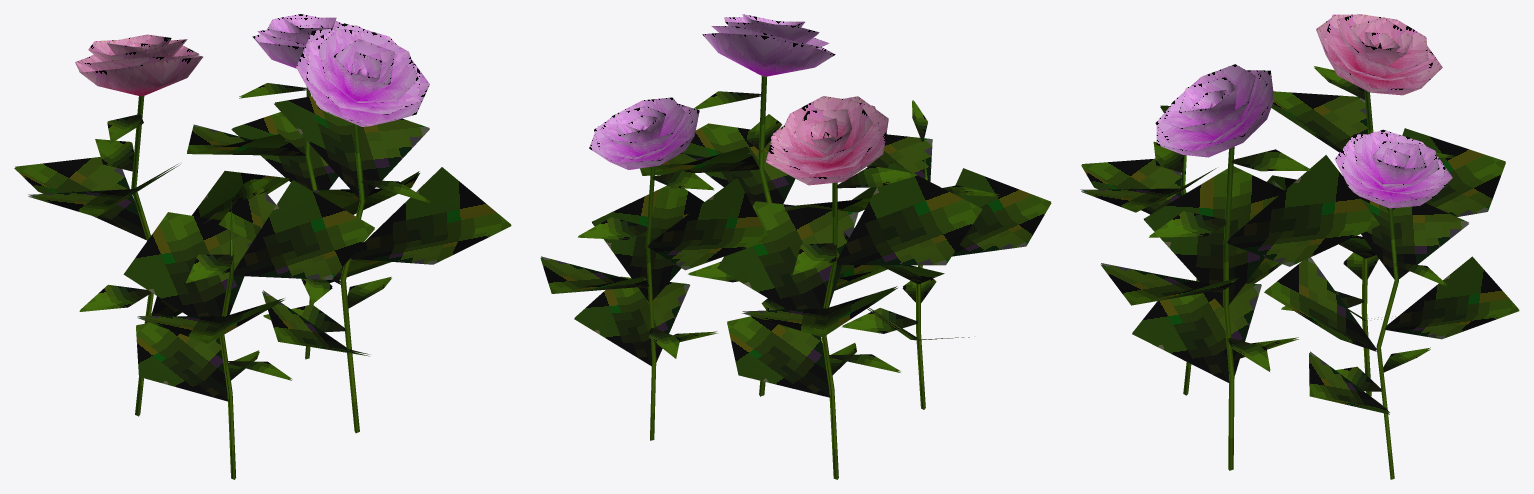
The model's file is plants_gardenflower02.gltf.
The picture shows the model from 3 angles, left to right: view 1: azimuth 30°, elevation 25°; view 2: azimuth 150°, elevation 25°; view 3: azimuth 270°, elevation 25°; orthographic projection. The views are drawn at different scales.
Parts seen in each view (by area): view 1: um_plants_gardenflower02_model_plants_gardenflower02_modelSh; view 2: um_plants_gardenflower02_model_plants_gardenflower02_modelSh; view 3: um_plants_gardenflower02_model_plants_gardenflower02_modelSh.
Boxes of the visible parts, box(x1,y1,x2,y2) form: um_plants_gardenflower02_model_plants_gardenflower02_modelSh: box(14, 14, 511, 479); um_plants_gardenflower02_model_plants_gardenflower02_modelSh: box(540, 14, 1051, 479); um_plants_gardenflower02_model_plants_gardenflower02_modelSh: box(1080, 14, 1519, 479).
Size of the model in its own units: 0.9674 by 0.9592 by 0.9778.
Materials: 1 (1 with a texture image).
